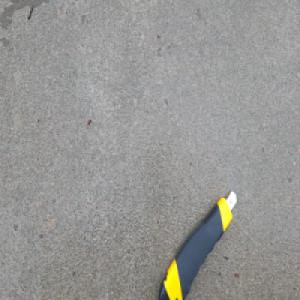Cutter: (156, 188, 237, 300)
